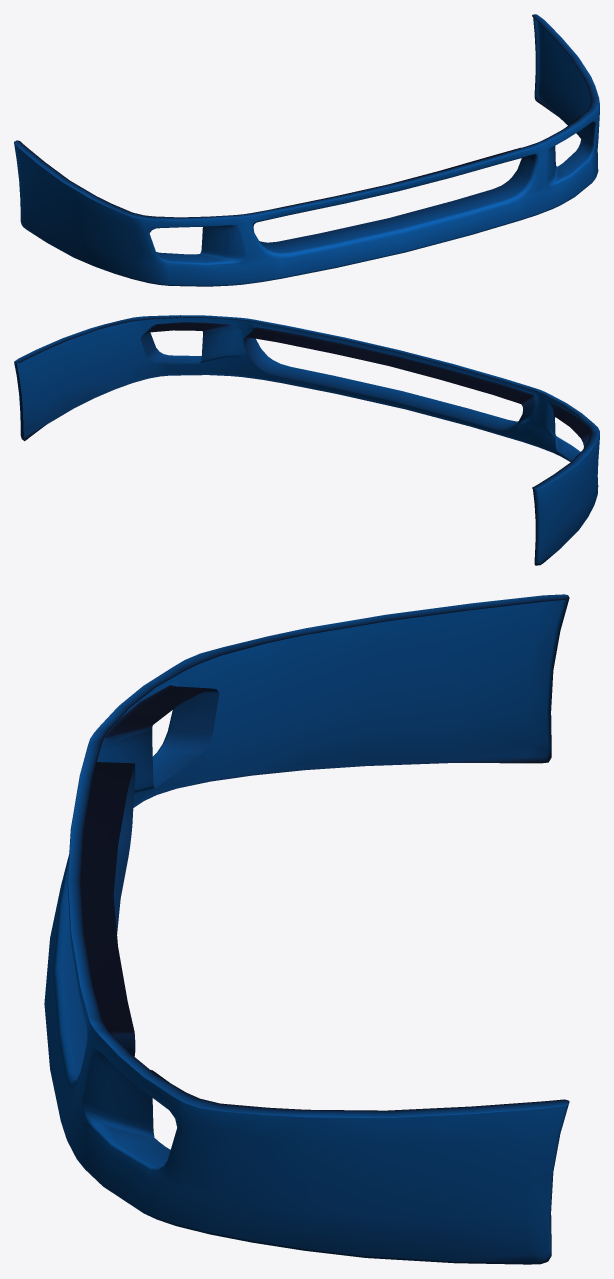
Rendered from F40_FB01_Duco.fbx.
3 renders of one model, top to bottom at view 1: azimuth 30°, elevation 25°; view 2: azimuth 150°, elevation 25°; view 3: azimuth 270°, elevation 25°, orthographic. The views are drawn at different scales.
Visible parts, largest first — view 1: F40_FB01_Duco; view 2: F40_FB01_Duco; view 3: F40_FB01_Duco.
Boxes of the visible parts, x1,y1,x2,y2 form: F40_FB01_Duco: [14, 14, 599, 286]; F40_FB01_Duco: [14, 315, 599, 565]; F40_FB01_Duco: [44, 594, 569, 1264].
Bounding box in the file's own units: 180 × 26.9 × 78.05.
